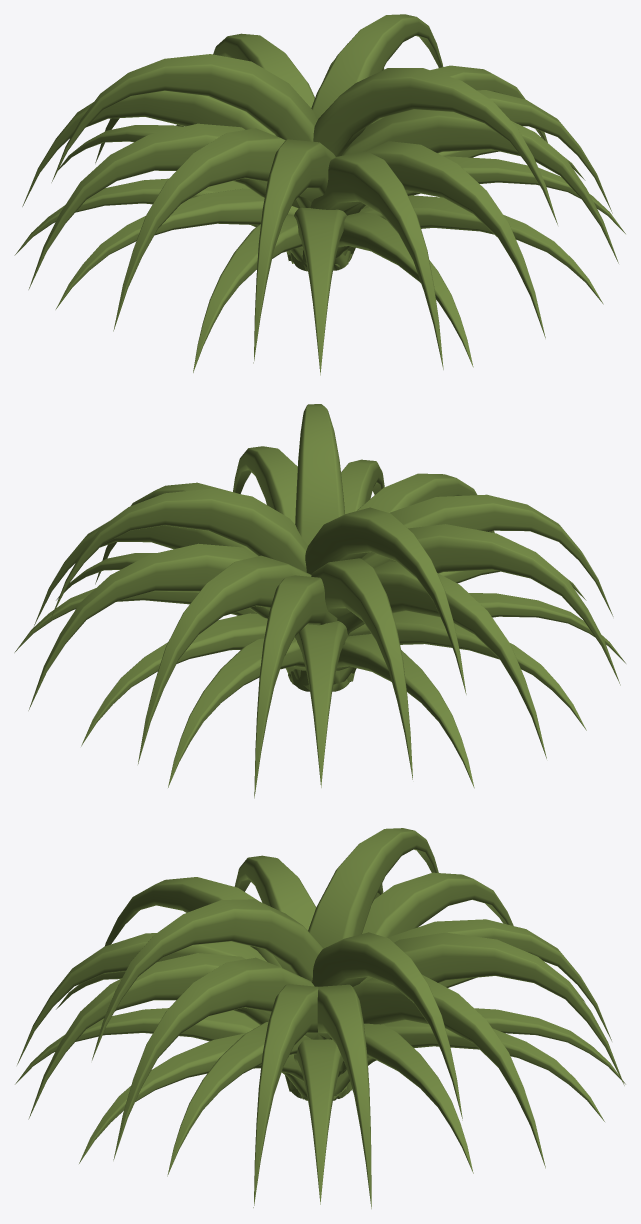
Rendered from planta.fbx.
3 renders of one model, top to bottom at view 1: azimuth 30°, elevation 25°; view 2: azimuth 150°, elevation 25°; view 3: azimuth 270°, elevation 25°, orthographic.
Parts seen in each view (by area): view 1: sweep28; view 2: sweep28; view 3: sweep28.
Boxes of the visible parts, x1=… form: sweep28: x1=14, y1=14, x2=625, y2=375; sweep28: x1=14, y1=404, x2=625, y2=798; sweep28: x1=15, y1=828, x2=625, y2=1208.
Bounding box in the file's own units: 21.6 × 8.19 × 21.6.
